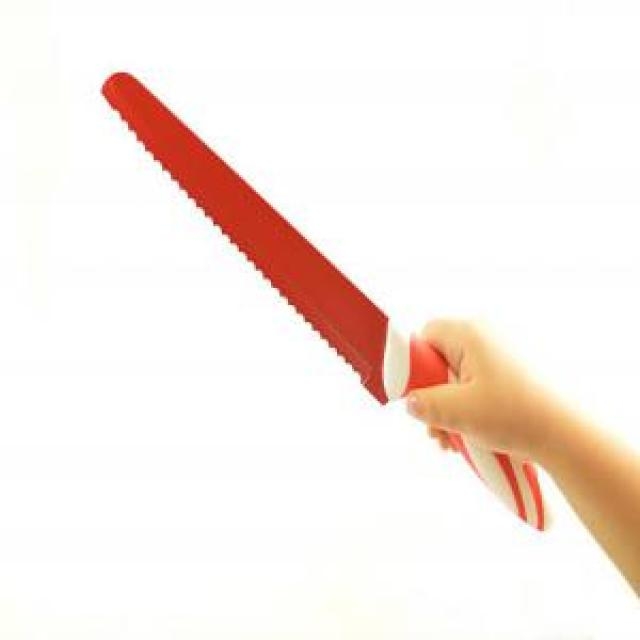knife: (103, 66, 562, 536)
